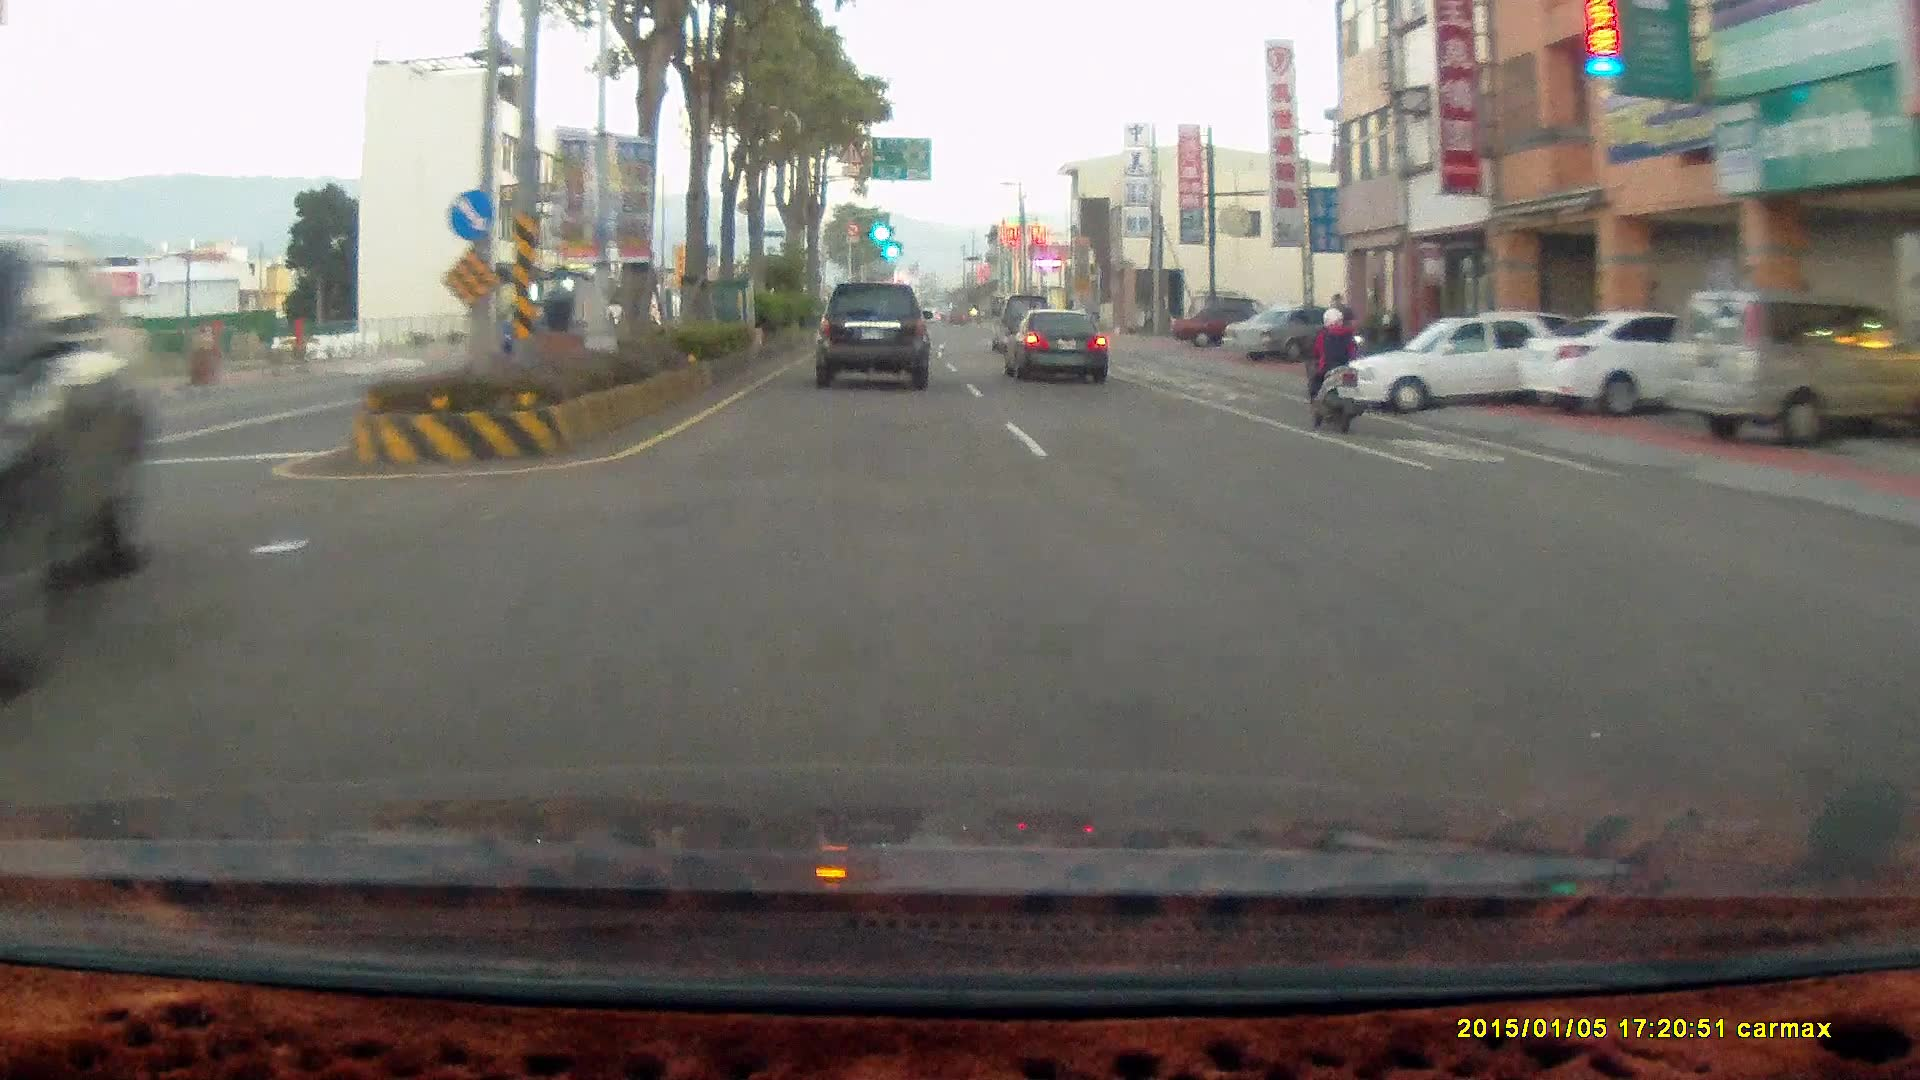rider: (1291, 291, 1378, 442), (1299, 302, 1364, 431)
vehicle: (1, 234, 167, 639), (1, 234, 156, 656), (1666, 288, 1920, 451), (1515, 308, 1764, 418), (1342, 308, 1606, 411), (1342, 310, 1577, 415), (1515, 308, 1727, 418), (811, 281, 937, 388), (810, 280, 933, 387), (1007, 310, 1114, 386), (1224, 299, 1360, 359), (1223, 306, 1360, 364), (1003, 307, 1107, 384), (1172, 304, 1288, 348), (990, 290, 1054, 349)
